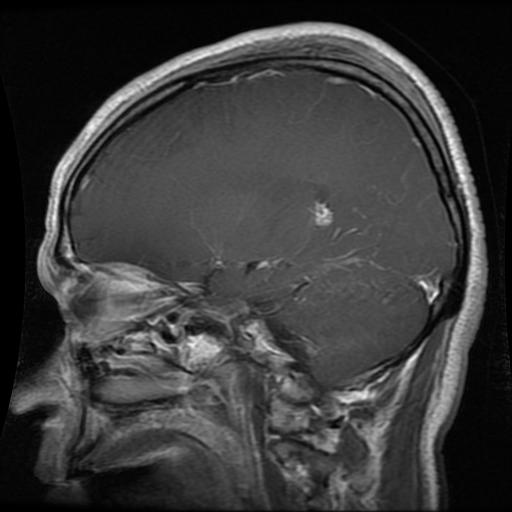Gliomia_tumour: (312, 200, 332, 225)
